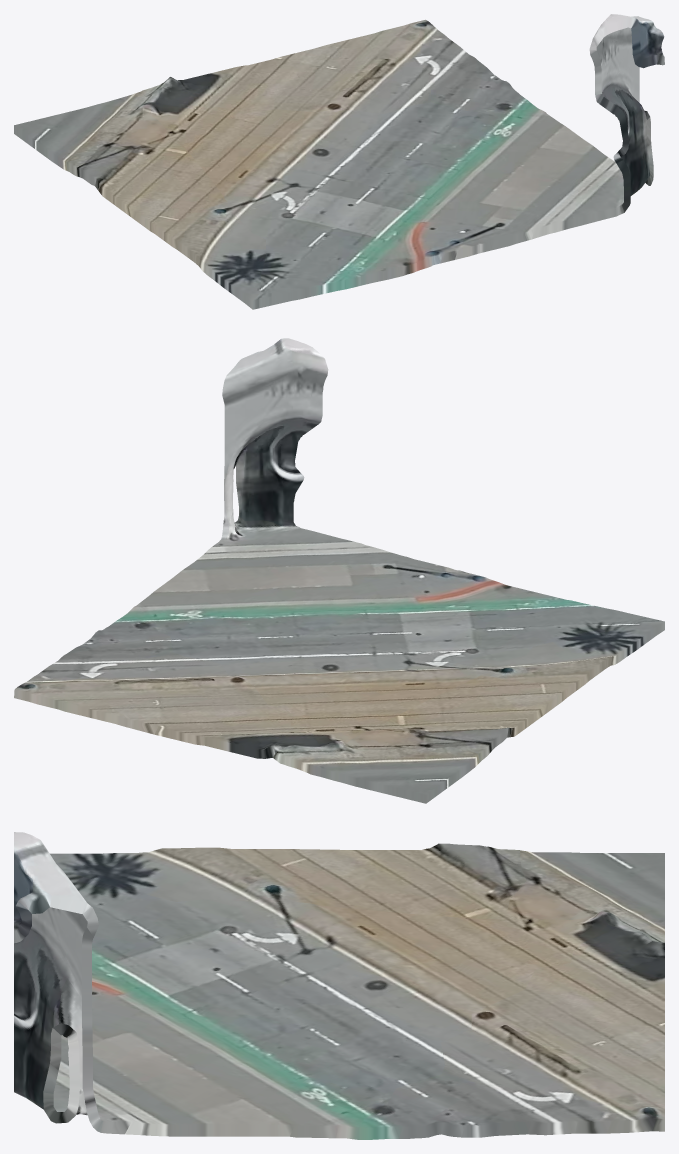
File: z20-167775-405201-h0-yup-uvflip-v3-world.glb
The picture shows the model from 3 angles, top to bottom: view 1: azimuth 30°, elevation 25°; view 2: azimuth 150°, elevation 25°; view 3: azimuth 270°, elevation 25°; orthographic projection. The views are drawn at different scales.
Size of the model in its own units: 30.2 by 14.2 by 30.32.
Materials: 1 (1 with a texture image).
